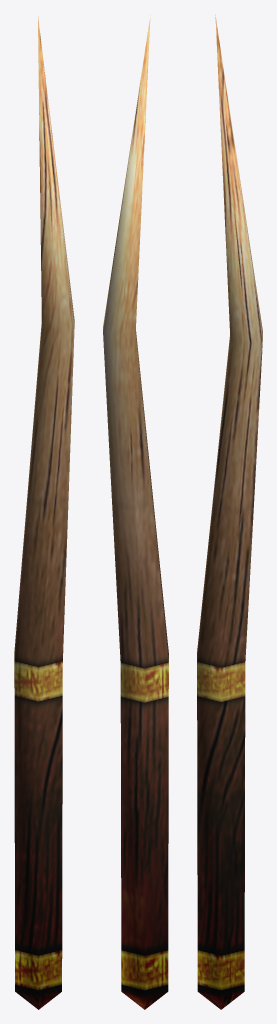
File: wand01.FBX
The picture shows the model from 3 angles, left to right: view 1: azimuth 30°, elevation 25°; view 2: azimuth 150°, elevation 25°; view 3: azimuth 330°, elevation 25°; orthographic projection.
Parts seen in each view (by area): view 1: wand01; view 2: wand01; view 3: wand01.
Part boxes in pixels (<box>): wand01: <box>14,16,74,1009</box>; wand01: <box>103,14,168,1009</box>; wand01: <box>197,15,262,1009</box>.
Bounding box in the file's own units: 0.0689 × 1.04 × 0.0457.
